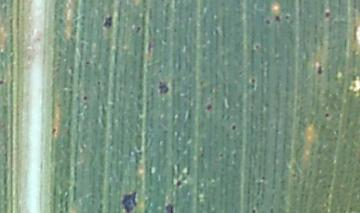tarspot: (120, 190, 138, 213), (157, 79, 169, 95), (102, 14, 113, 30), (164, 202, 175, 213), (272, 14, 282, 23), (205, 102, 213, 113), (316, 63, 323, 75), (230, 123, 238, 133), (50, 127, 58, 136), (134, 25, 142, 34), (282, 14, 291, 22), (175, 179, 182, 189), (217, 151, 225, 159), (198, 150, 205, 159), (324, 10, 330, 20), (263, 18, 270, 26), (83, 59, 91, 66), (57, 16, 64, 24), (254, 43, 262, 50), (260, 174, 266, 183), (268, 206, 275, 213), (82, 94, 88, 102), (96, 79, 102, 87), (249, 77, 255, 85), (324, 112, 330, 119), (248, 104, 254, 111), (1, 78, 5, 87), (250, 208, 256, 213)
